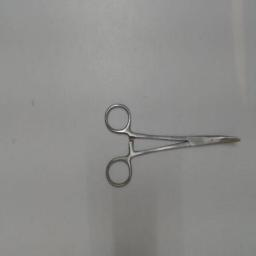Crile Artery Forceps: (103, 98, 247, 188)
